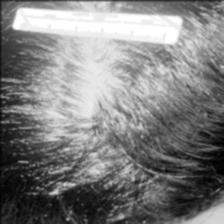Unclassified: (86, 45, 114, 62)
